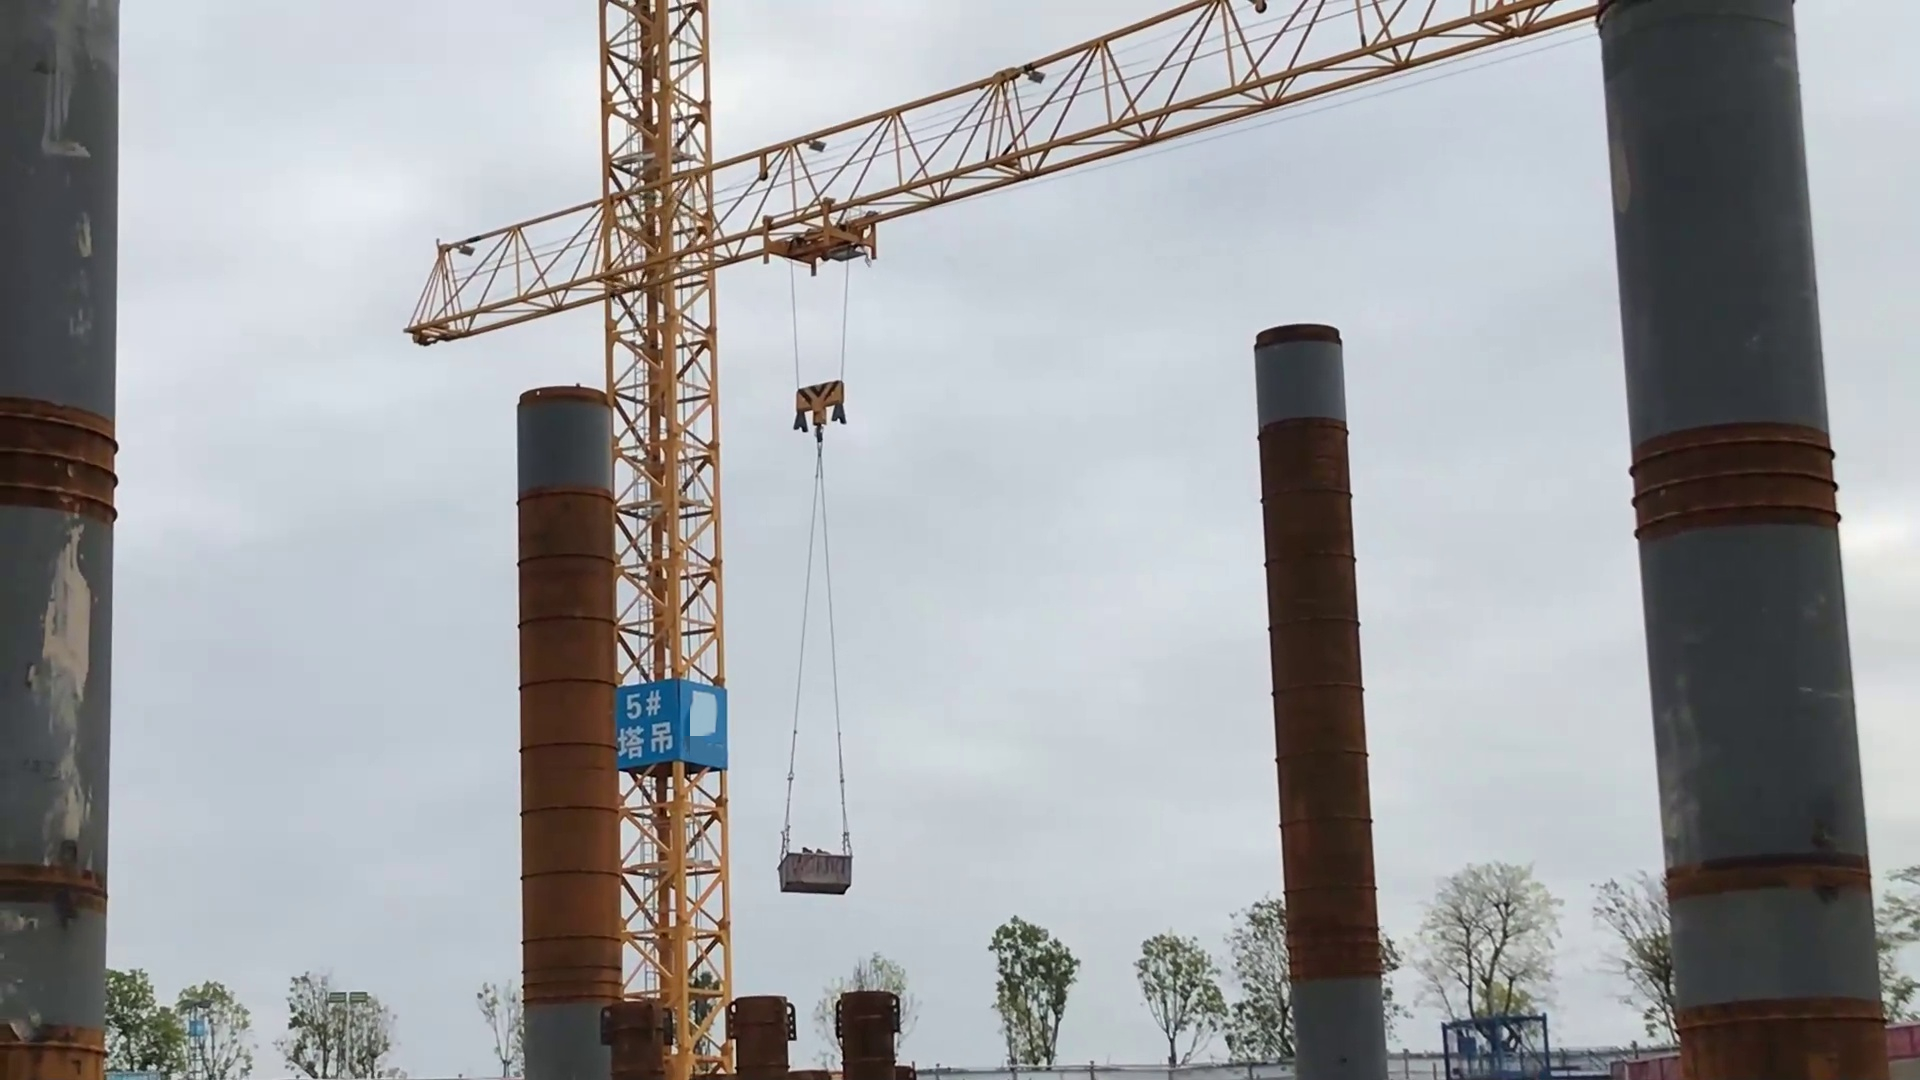hook: (796, 382, 847, 429)
